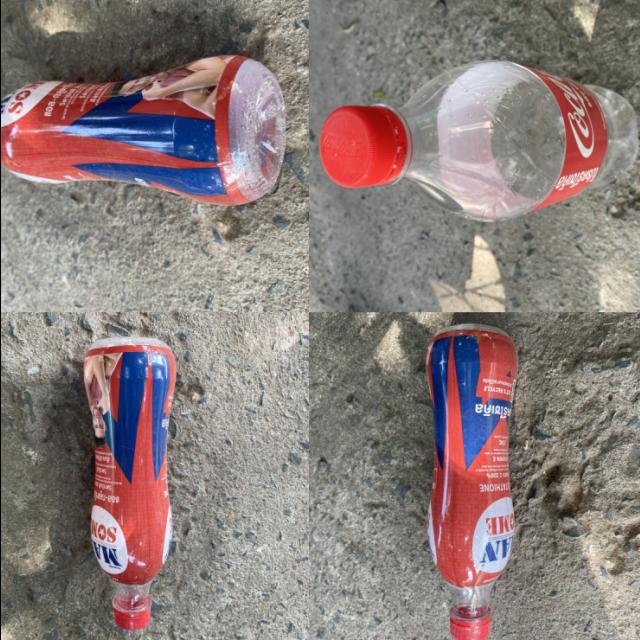plastik: (319, 61, 637, 222), (0, 55, 284, 205), (425, 324, 516, 640), (84, 337, 174, 630)
